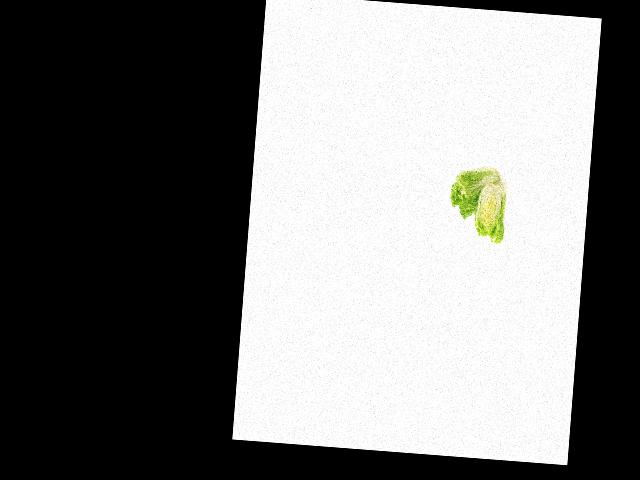lettuce: (446, 162, 503, 225)
